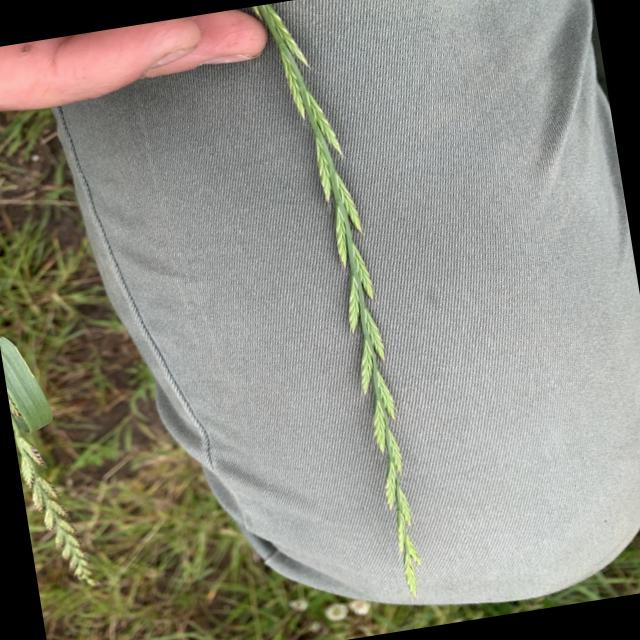Lolium: (250, 0, 435, 613)
